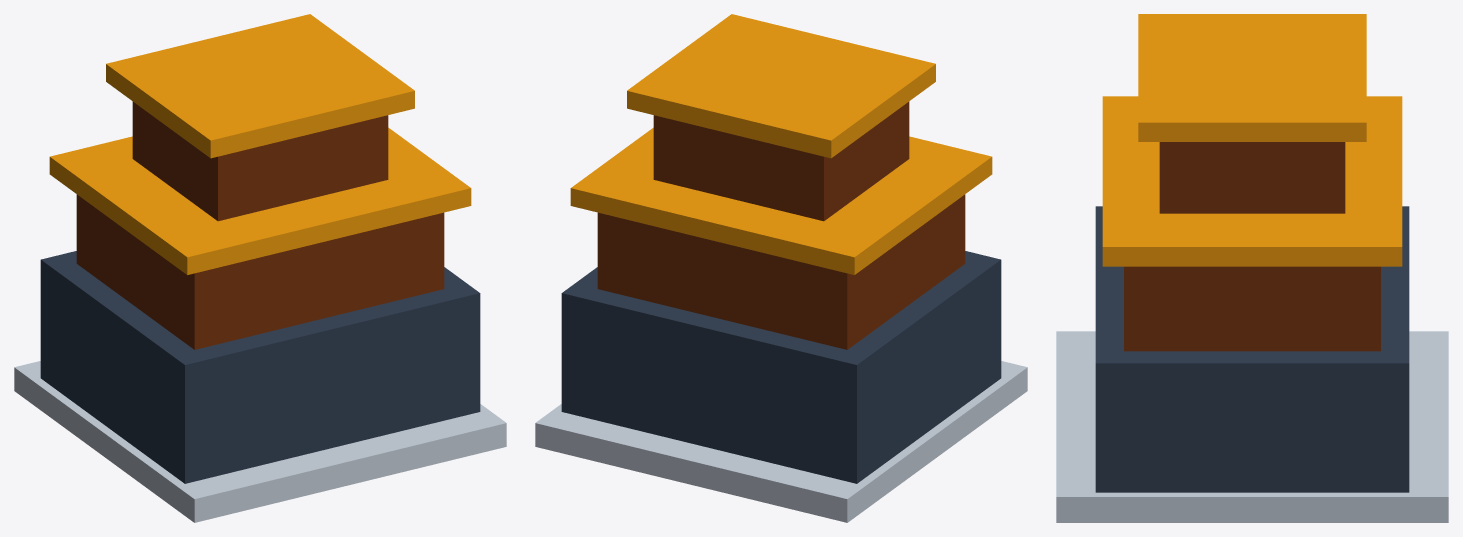
The model's file is bld_c3_cell_18.glb.
3 renders of one model, left to right at view 1: azimuth 30°, elevation 25°; view 2: azimuth 150°, elevation 25°; view 3: azimuth 270°, elevation 25°, orthographic. The views are drawn at different scales.
Visible parts, largest first — view 1: Bld_C3_Cell_18_BespokeLandmark; view 2: Bld_C3_Cell_18_BespokeLandmark; view 3: Bld_C3_Cell_18_BespokeLandmark.
Boxes of the visible parts, x1=… form: Bld_C3_Cell_18_BespokeLandmark: x1=14, y1=14, x2=506, y2=522; Bld_C3_Cell_18_BespokeLandmark: x1=535, y1=14, x2=1027, y2=522; Bld_C3_Cell_18_BespokeLandmark: x1=1056, y1=14, x2=1448, y2=522.
Size of the model in its own units: 0.55 by 0.575 by 0.55.
